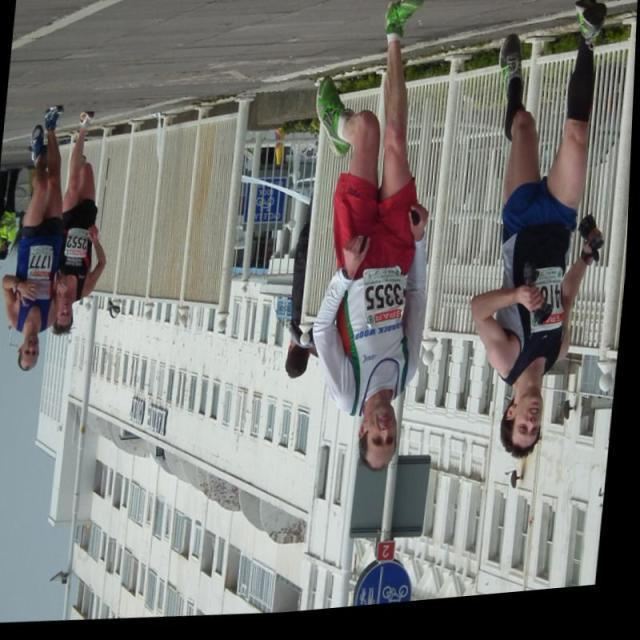dorsal: (361, 262, 418, 338), (526, 272, 576, 348), (26, 245, 61, 286), (64, 226, 95, 265)
